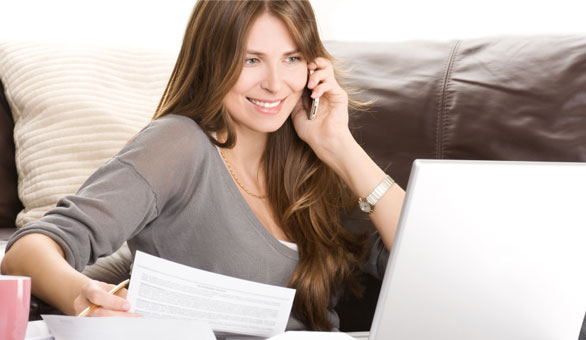phone: (290, 55, 349, 126)
talk: (232, 43, 356, 145)
